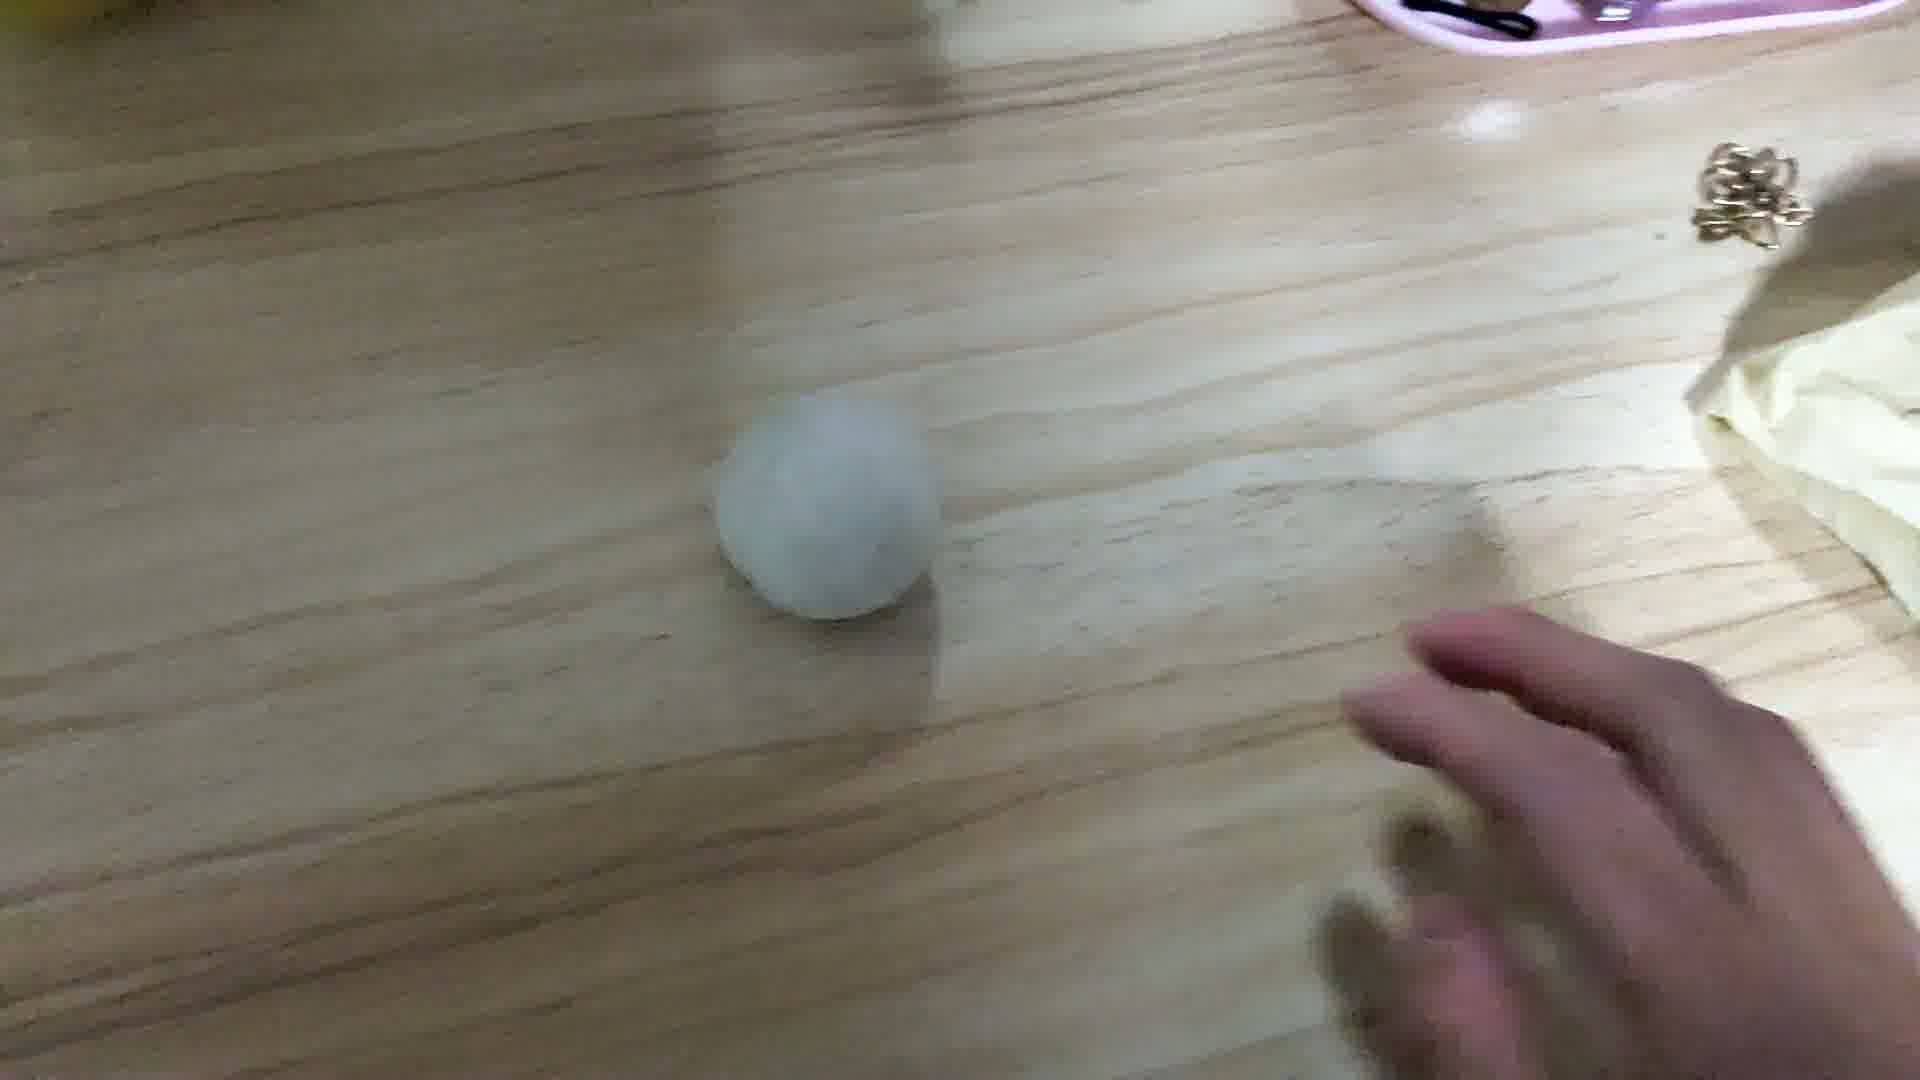Ball: (717, 396, 951, 621)
